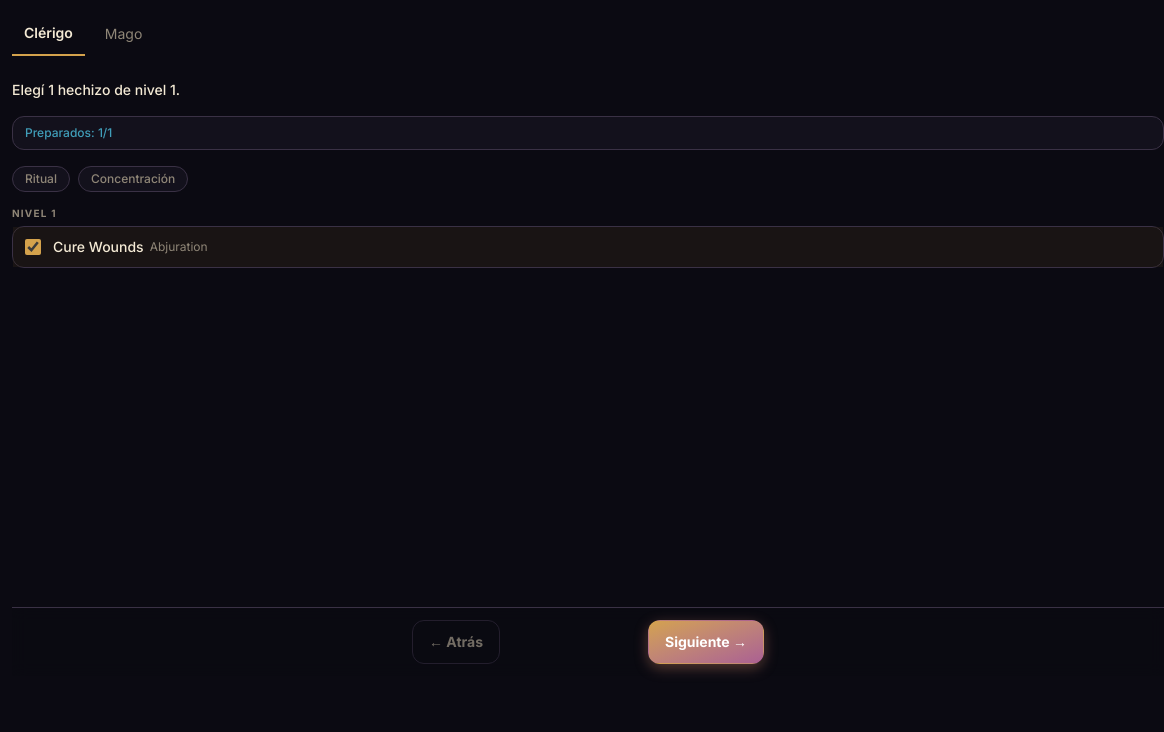
Test: MulticlassSpellsView — save failure (REQ-SP06-SEQUENTIAL-SAVE failure) › 6.5: save failure switches active tab to failing class and shows error banner
Click the button "Siguiente →": [706, 642] box [648,620,764,664]
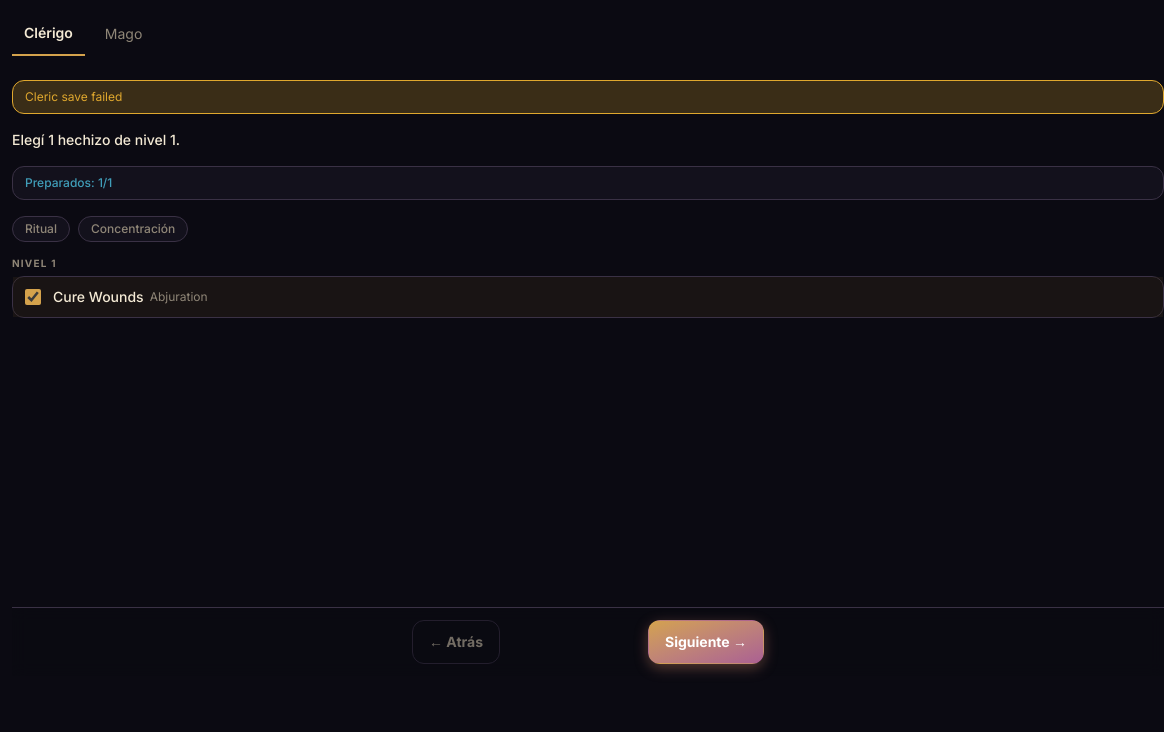
expect the text "Cleric save failed" is shown: met, box [12,80,1163,114]
